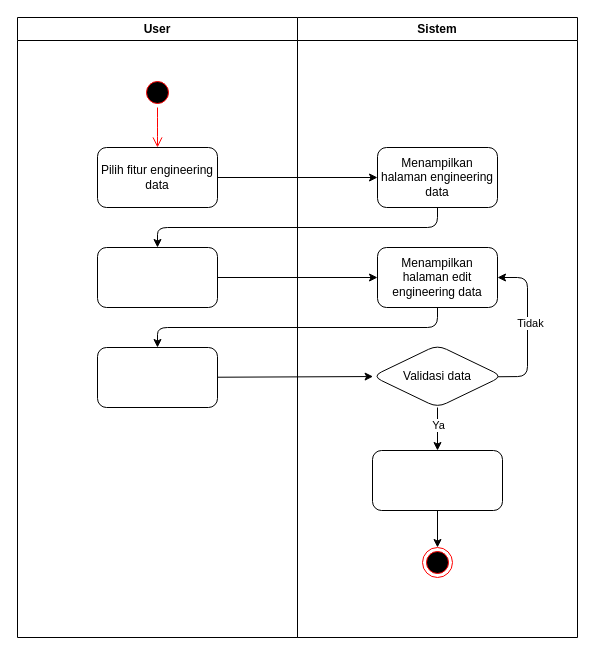
Image size: 595x655. Some labels were removed from this diagram. The centre of each missing label's shape, as x and y in pixels:
Edit data: the point at 157,377
Menyimpan perubahan engineering data: the point at 437,480
Pilih tombol edit (icon pen) pada salah satu data: the point at 157,277
